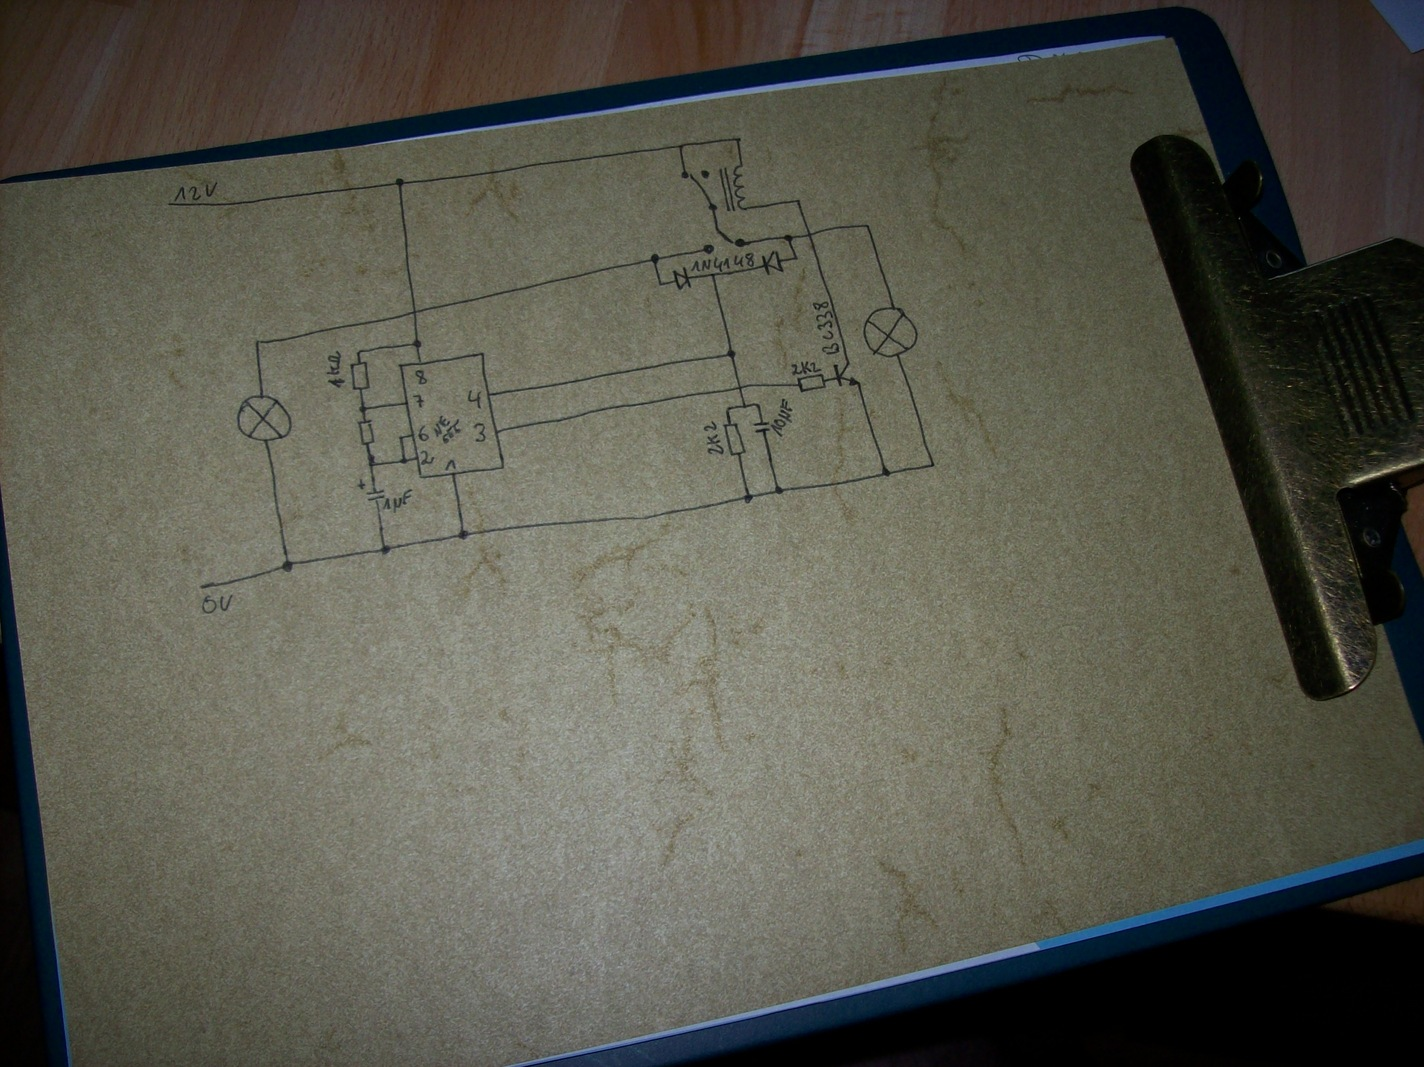capacitor.polarized: (357, 477, 385, 503)
capacitor.unpolarized: (752, 419, 771, 434)
crossover: (409, 306, 421, 317), (804, 230, 815, 240), (735, 383, 745, 392)
diode: (760, 249, 785, 276), (672, 266, 694, 291)
integrated_cricuit.ne555: (398, 351, 505, 479)
junction: (457, 529, 471, 542), (281, 559, 294, 574), (366, 453, 376, 468), (725, 347, 737, 359), (742, 493, 754, 504), (773, 485, 785, 497), (879, 466, 891, 477), (782, 233, 794, 243), (650, 252, 660, 265), (411, 338, 424, 349), (380, 544, 390, 556), (394, 177, 404, 188), (927, 460, 938, 470), (399, 456, 409, 465), (253, 337, 262, 347), (355, 347, 364, 358), (709, 271, 718, 280), (676, 143, 685, 151), (657, 280, 666, 288), (863, 222, 872, 230), (724, 406, 732, 415), (359, 405, 367, 412), (734, 136, 742, 143), (794, 197, 802, 205), (791, 254, 799, 262), (739, 403, 748, 410), (754, 401, 762, 408), (397, 434, 404, 440)
lamp: (862, 305, 919, 358), (235, 393, 294, 443)
relay: (680, 164, 750, 213)
resistor: (723, 423, 747, 456), (350, 360, 371, 391), (797, 374, 827, 392), (356, 419, 376, 446)
switch: (702, 224, 747, 256)
terminal: (197, 582, 207, 592), (164, 200, 174, 210)
text: (812, 300, 841, 355), (691, 252, 755, 273), (174, 180, 218, 202), (770, 398, 793, 437), (432, 415, 460, 444), (326, 350, 346, 389), (702, 420, 724, 456), (383, 489, 413, 513), (201, 594, 234, 614), (791, 360, 821, 375), (467, 389, 482, 410), (474, 423, 487, 443), (420, 449, 435, 466), (415, 369, 427, 386), (418, 425, 430, 442), (412, 395, 425, 408), (445, 460, 456, 472)
transistor: (832, 362, 862, 387)
